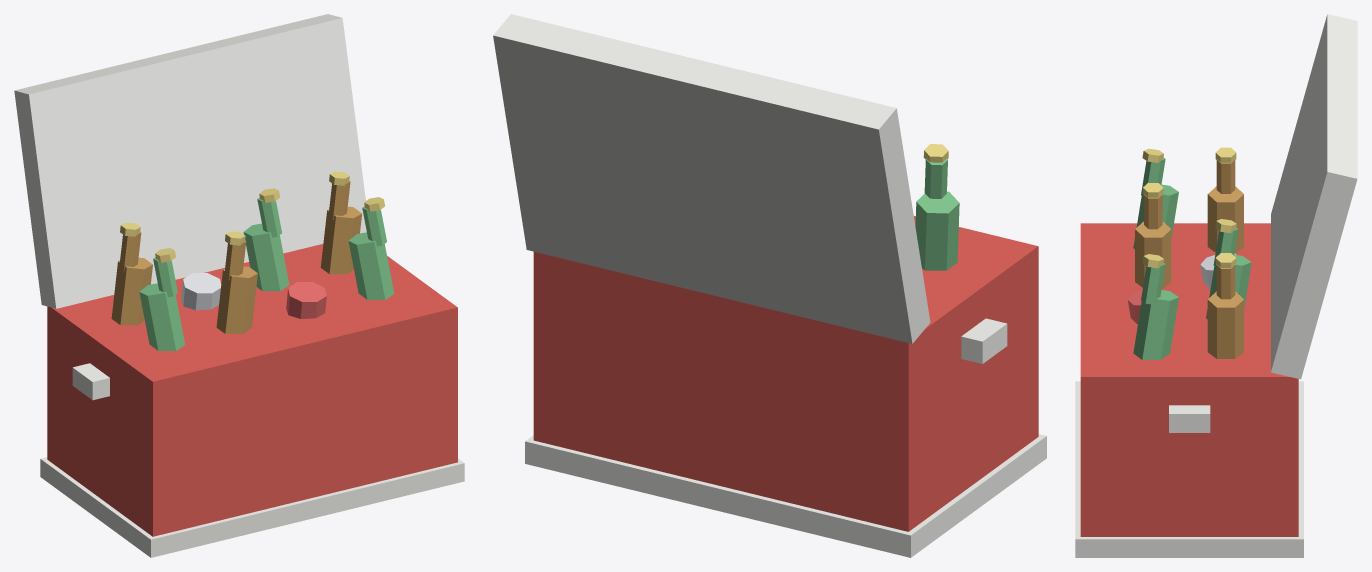
The model's file is cooler.glb.
3 renders of one model, left to right at view 1: azimuth 30°, elevation 25°; view 2: azimuth 150°, elevation 25°; view 3: azimuth 270°, elevation 25°, orthographic. The views are drawn at different scales.
Visible parts, largest first — view 1: cooler; view 2: cooler; view 3: cooler.
Boxes of the visible parts, <box> form: cooler: <box>14,14,464,557</box>; cooler: <box>493,14,1046,557</box>; cooler: <box>1075,14,1357,557</box>.
Size of the model in its own units: 0.78 by 0.8206 by 0.5435.
